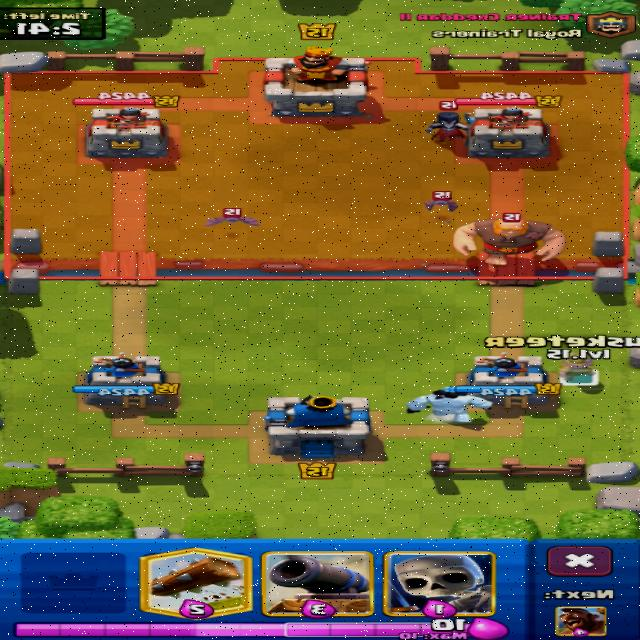Enemy-Bat: (206, 208, 259, 225), (426, 191, 458, 211)
Enemy-Giant: (455, 219, 564, 264)
Enemy-KingTower: (266, 45, 369, 116)
Enemy-NightWitch: (428, 112, 475, 145)
Enemy-PrincessTower: (86, 107, 168, 158), (470, 107, 548, 158)
Player-IceGolem: (408, 387, 492, 423)
Player-KingTower: (265, 395, 370, 458)
Player-PrincessTower: (74, 353, 179, 410), (457, 353, 550, 408)
